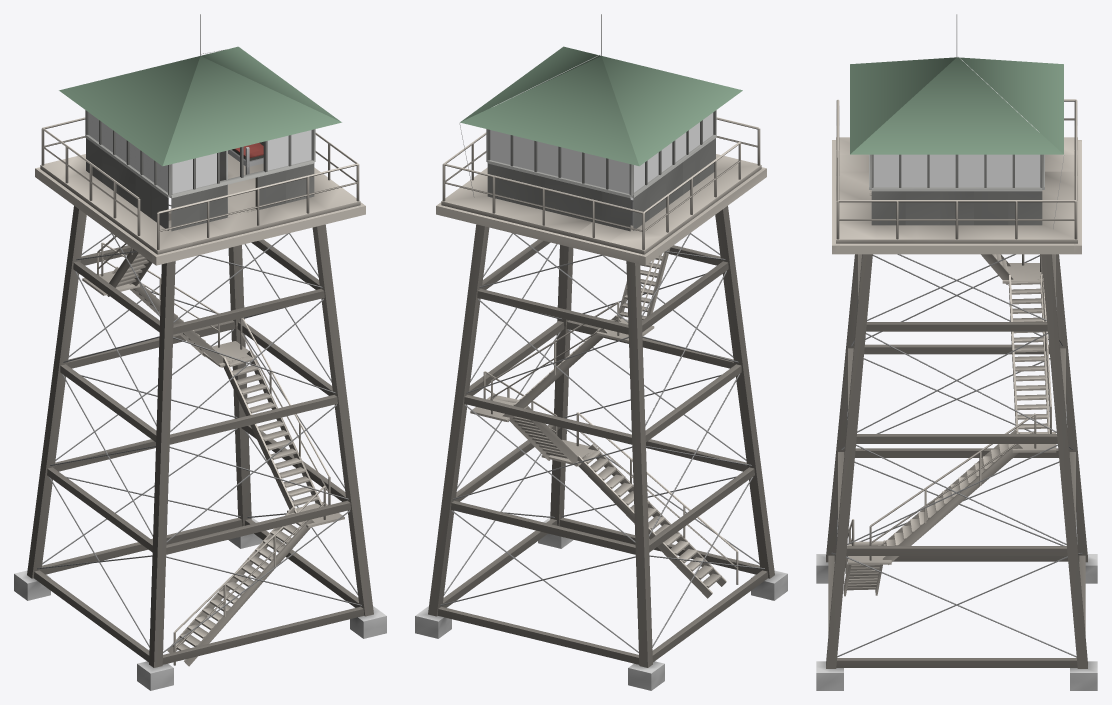
File: fire_lookout.glb
3 renders of one model, left to right at view 1: azimuth 30°, elevation 25°; view 2: azimuth 150°, elevation 25°; view 3: azimuth 270°, elevation 25°, orthographic. The views are drawn at different scales.
Visible parts, largest first — view 1: main, interior; view 2: main; view 3: main.
Boxes of the visible parts, x1=… form: main: x1=14, y1=14, x2=386, y2=690; interior: x1=228, y1=143, x2=263, y2=174; main: x1=415, y1=14, x2=787, y2=690; main: x1=816, y1=14, x2=1097, y2=690.
Size of the model in its own units: 7.1 by 17.17 by 7.1.
